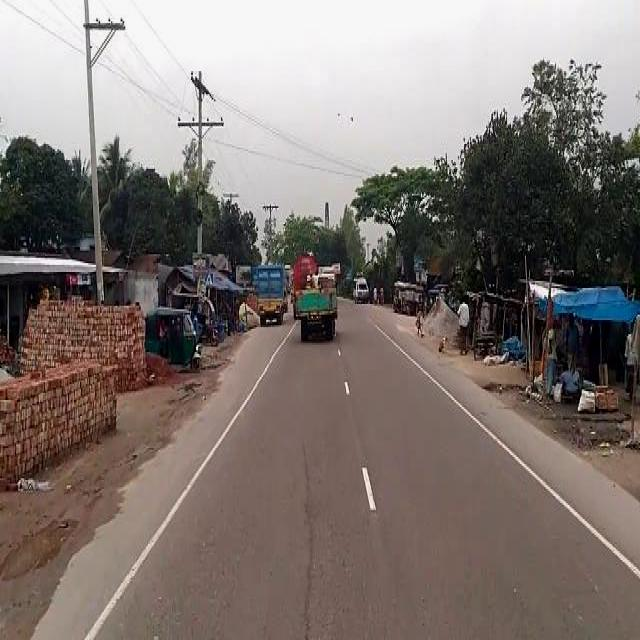TRUCK: (296, 262, 342, 342), (255, 264, 286, 324)
